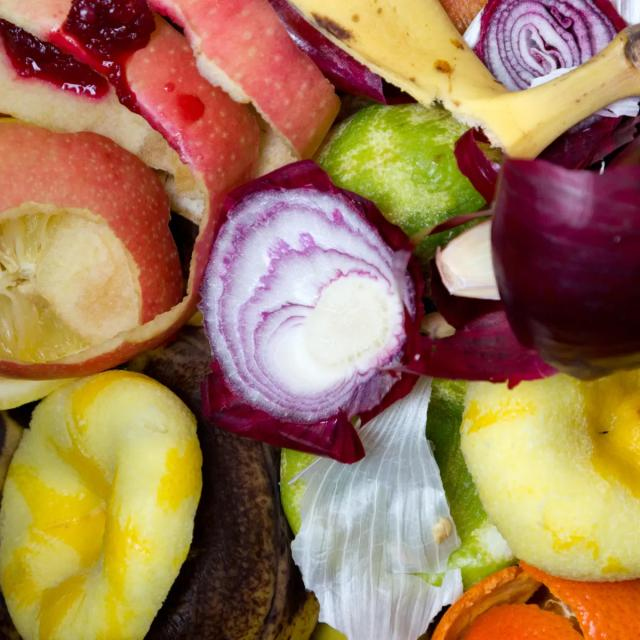organic: (193, 160, 424, 461), (284, 0, 640, 164), (0, 117, 182, 419), (0, 373, 204, 640), (452, 110, 638, 388), (285, 388, 462, 640), (460, 377, 639, 580), (312, 98, 502, 268), (146, 0, 344, 159), (470, 0, 638, 100), (425, 565, 640, 640)
